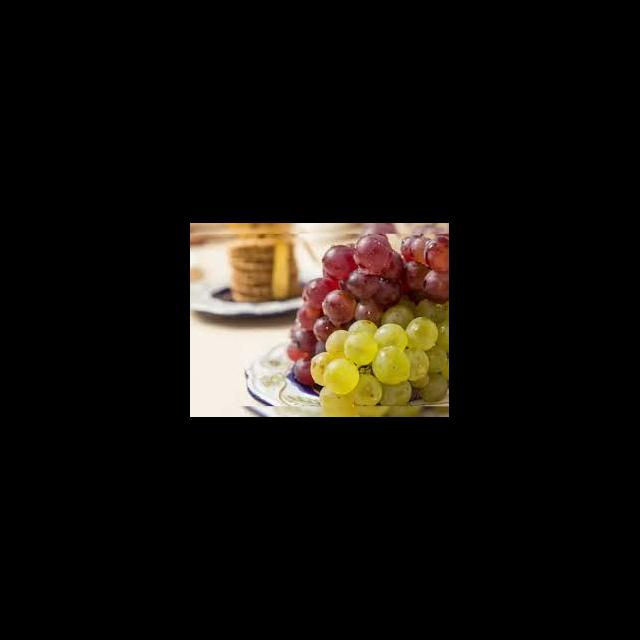grape: (286, 228, 448, 416)
